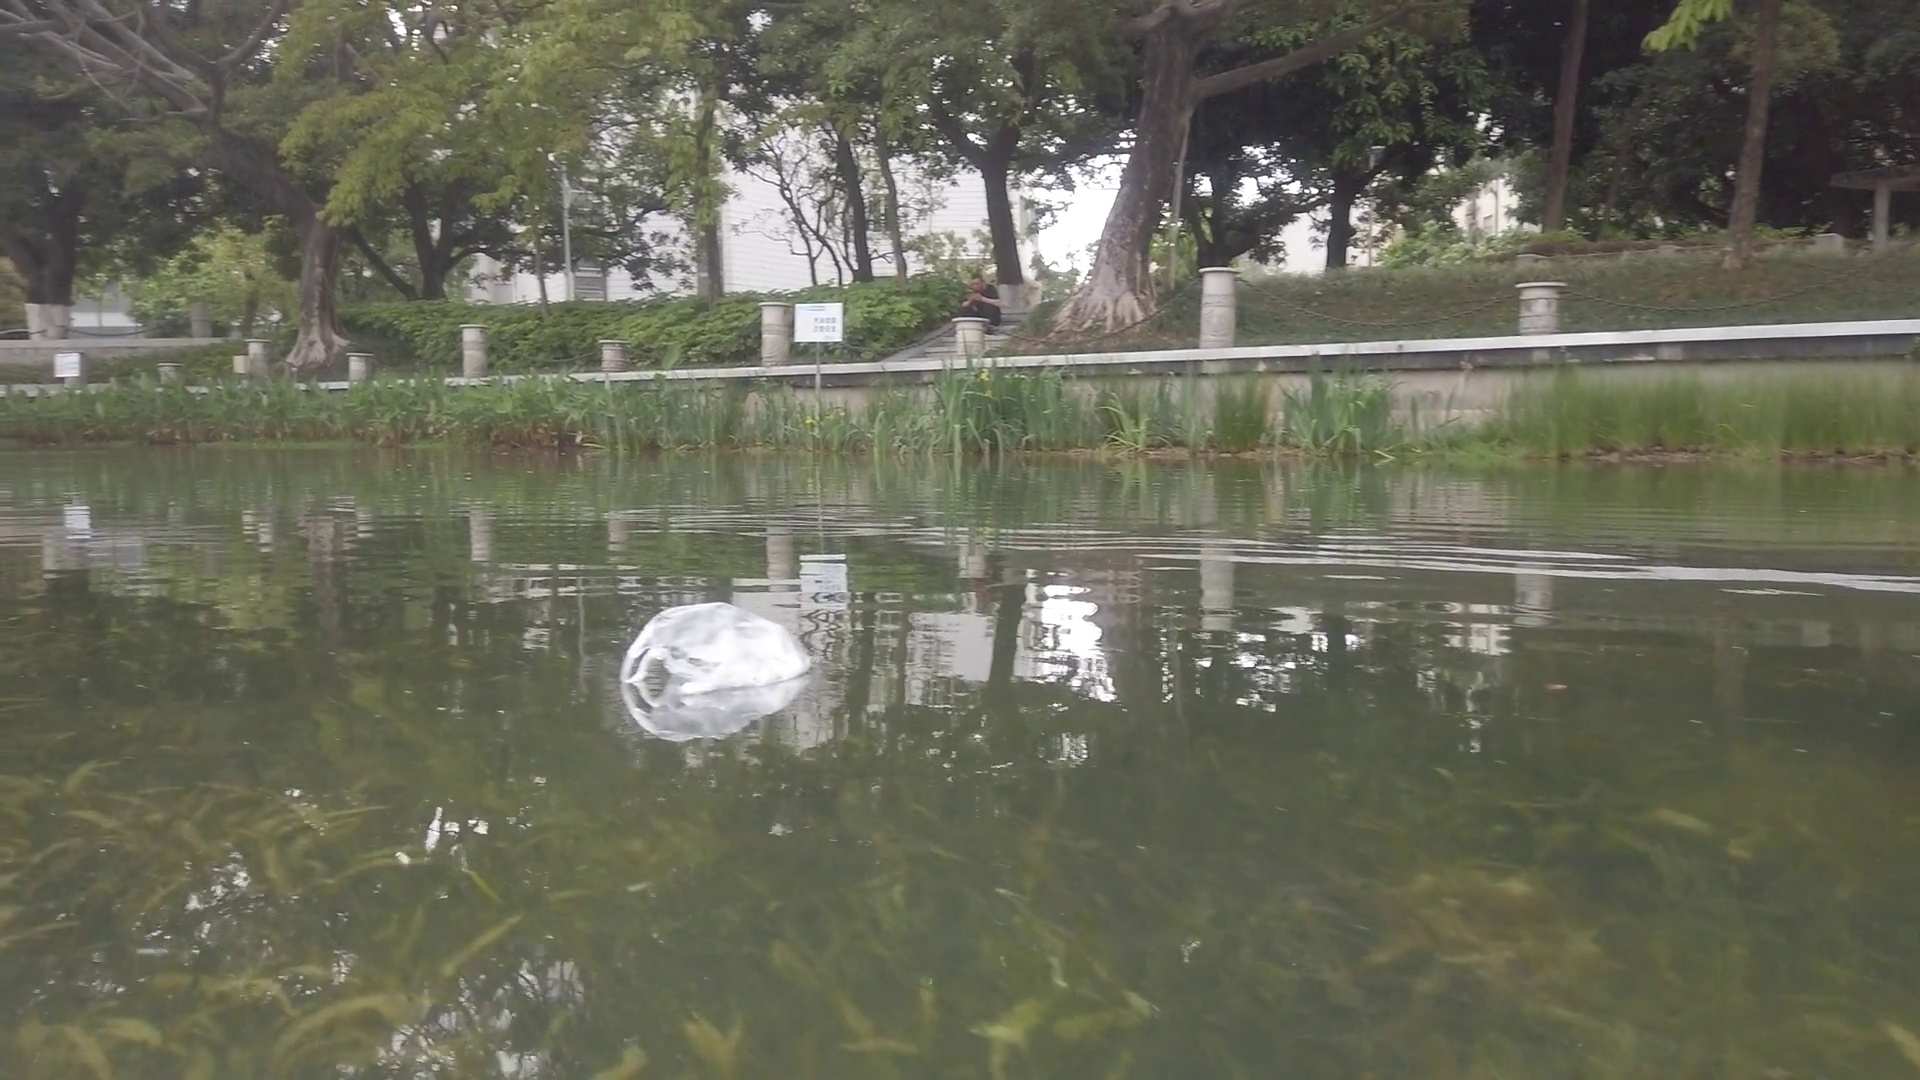plastic: (620, 605, 814, 687)
